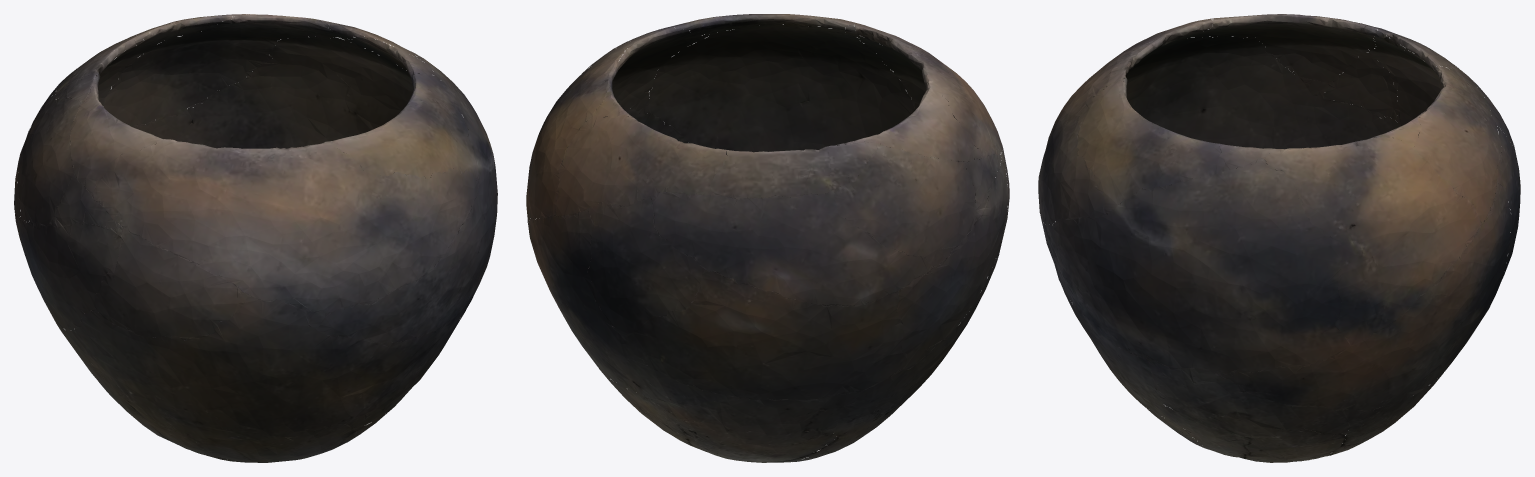
Rendered from Objeto_12_4k-b.glb.
3 views of the same model, side by side, from view 1: azimuth 30°, elevation 25°; view 2: azimuth 150°, elevation 25°; view 3: azimuth 270°, elevation 25° (orthographic).
Visible parts, largest first — view 1: Mesh_0; view 2: Mesh_0; view 3: Mesh_0.
Part boxes in pixels (x1,y1,x2,y2): Mesh_0: (14, 14, 497, 462); Mesh_0: (526, 14, 1009, 462); Mesh_0: (1038, 14, 1520, 462).
Bounding box in the file's own units: 0.252 × 0.2103 × 0.2522.
1 material, 1 textured.
